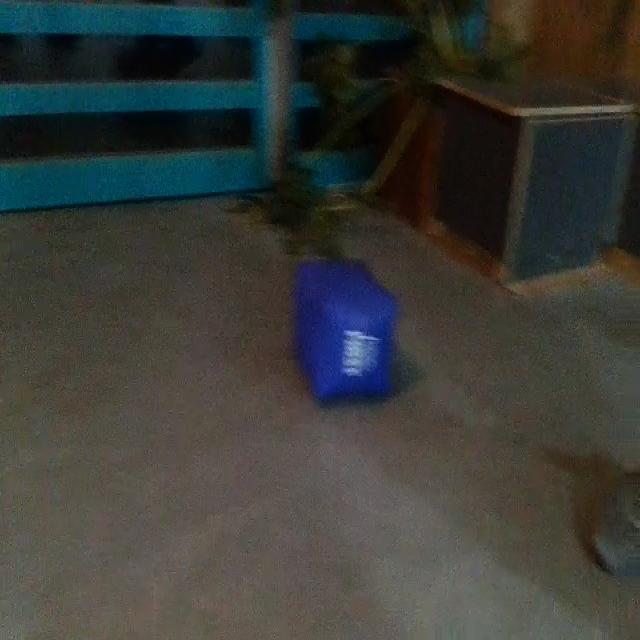cube: (292, 260, 403, 408)
